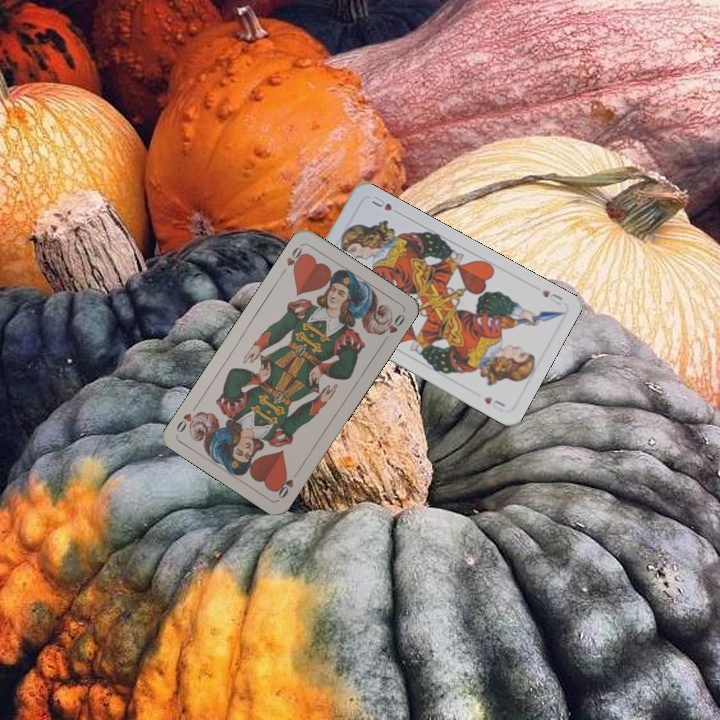HO: (277, 241, 308, 278), (273, 466, 302, 501)
HU: (537, 286, 566, 308)
